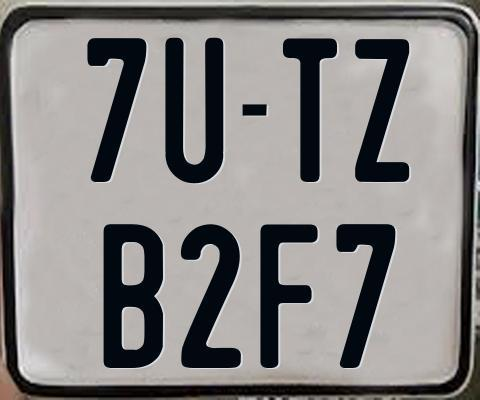2: (181, 222, 245, 369)
7: (86, 38, 146, 183), (333, 222, 392, 369)
B: (100, 222, 164, 372)
F: (259, 224, 320, 374)
T: (283, 35, 343, 185)
U: (163, 35, 223, 183)
Z: (352, 36, 411, 179)
